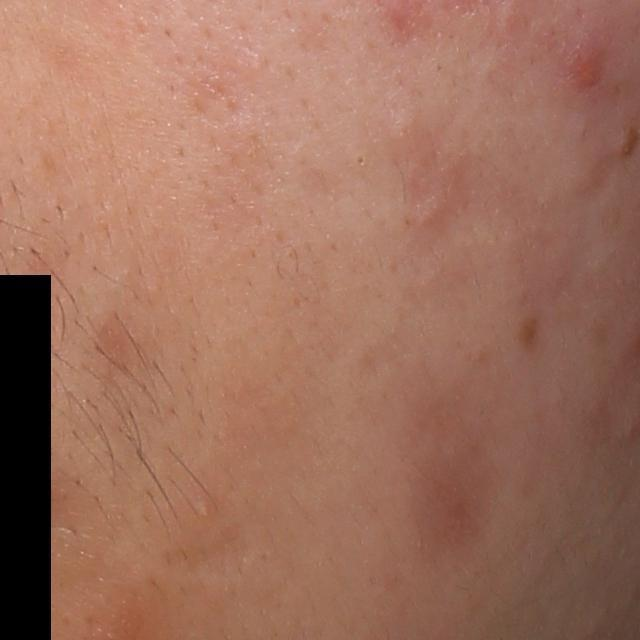comedo: (385, 108, 425, 142)
papule: (552, 25, 604, 106)
